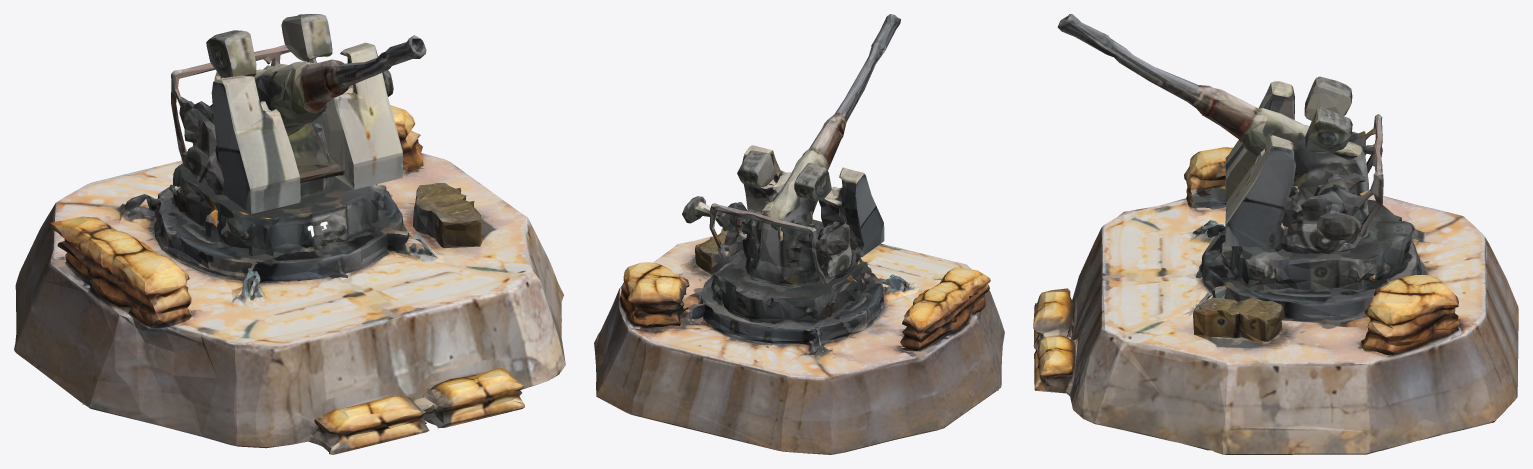
File: war_aa_platform_1117.glb
3 renders of one model, left to right at view 1: azimuth 30°, elevation 25°; view 2: azimuth 150°, elevation 25°; view 3: azimuth 270°, elevation 25°, orthographic. The views are drawn at different scales.
Visible parts, largest first — view 1: tmpiefp6u9t.ply; view 2: tmpiefp6u9t.ply; view 3: tmpiefp6u9t.ply.
Boxes of the visible parts, x1,y1,x2,y2 form: tmpiefp6u9t.ply: (14, 14, 565, 454); tmpiefp6u9t.ply: (594, 14, 1004, 454); tmpiefp6u9t.ply: (1033, 14, 1518, 454).
Size of the model in its own units: 2 by 1.54 by 1.99.
1 material, 1 textured.
